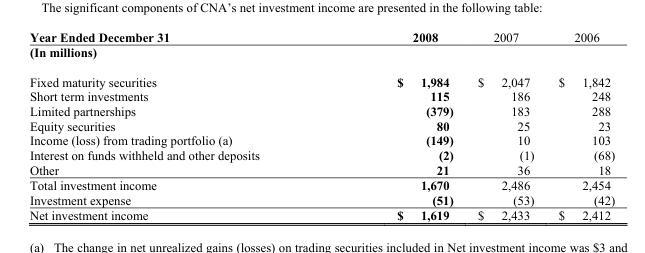table: (28, 29, 614, 221)
table column: (28, 29, 327, 221), (327, 29, 464, 221), (464, 29, 545, 221), (545, 29, 614, 221)
table column header: (28, 29, 614, 44)
table projected row header: (28, 44, 614, 66)
table row: (28, 44, 614, 66), (28, 66, 614, 88), (28, 29, 614, 44), (28, 88, 614, 103), (28, 103, 614, 118), (28, 132, 614, 147), (28, 147, 614, 162), (28, 162, 614, 177), (28, 177, 614, 192), (28, 192, 614, 207), (28, 118, 614, 132), (28, 207, 614, 221)
